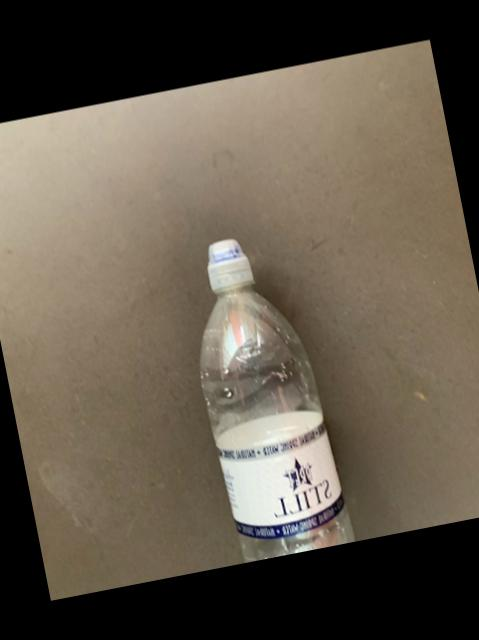plastic: (201, 240, 354, 563)
